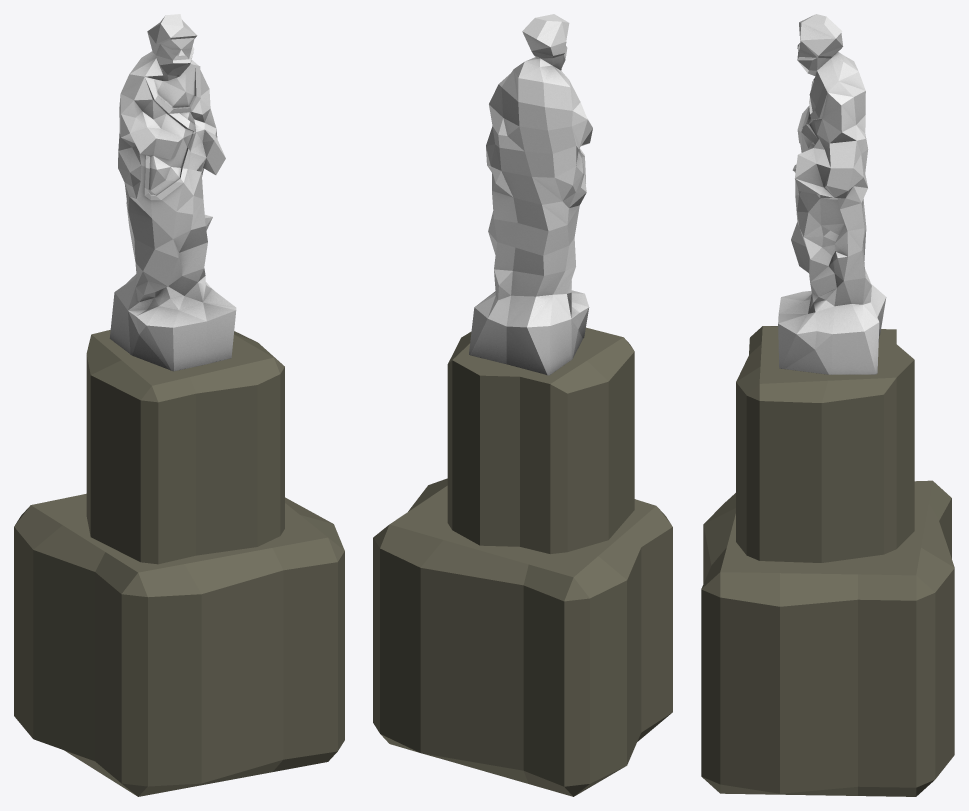
File: EstatuaCobre.fbx
The picture shows the model from 3 angles, left to right: view 1: azimuth 30°, elevation 25°; view 2: azimuth 150°, elevation 25°; view 3: azimuth 270°, elevation 25°; orthographic projection. The views are drawn at different scales.
Parts seen in each view (by area): view 1: Cube, Marcus_C; view 2: Cube, Marcus_C; view 3: Cube, Marcus_C.
Part boxes in pixels (left/top/right/bottom): Cube: left=14, top=330, right=344, bottom=796; Marcus_C: left=109, top=14, right=236, bottom=371; Cube: left=373, top=327, right=672, bottom=796; Marcus_C: left=469, top=14, right=592, bottom=375; Cube: left=701, top=326, right=954, bottom=796; Marcus_C: left=778, top=14, right=886, bottom=374.
Bounding box in the file's own units: 78.98 × 220 × 69.71.
